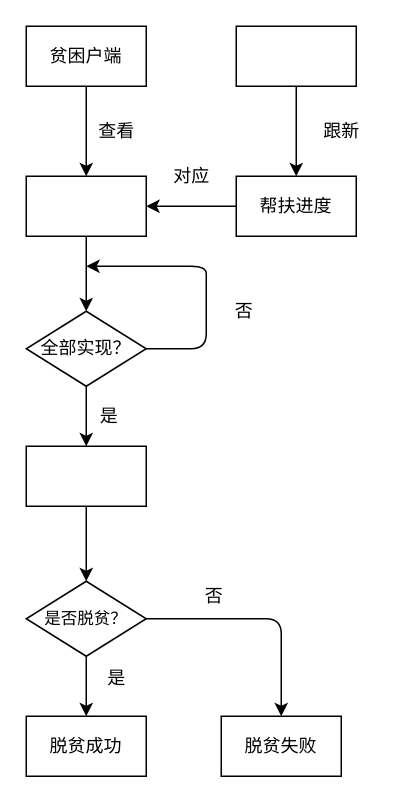
The diagram is 398 pixels wide and 803 high, and some of its shapes have lost their labels. The shapes that lost their labels are listed below. From the top down, each one's centre as x and y in pixels, then its label:
point (295, 55): 管理员端
point (85, 205): 扶贫措施
point (85, 475): 跟新贫困数据
